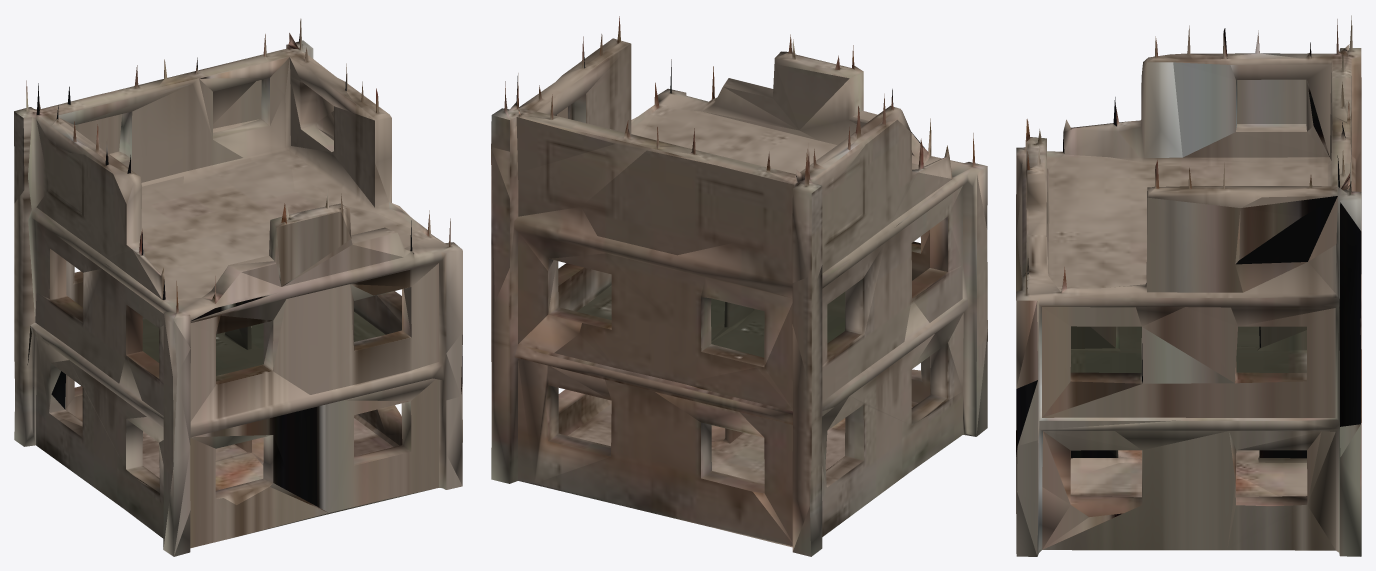
The model's file is prop_building_tall.glb.
The picture shows the model from 3 angles, left to right: view 1: azimuth 30°, elevation 25°; view 2: azimuth 150°, elevation 25°; view 3: azimuth 270°, elevation 25°; orthographic projection. The views are drawn at different scales.
Visible parts, largest first — view 1: Mesh_0; view 2: Mesh_0; view 3: Mesh_0.
Part boxes in pixels (x1,y1,x2,y2): Mesh_0: (14,18,462,556); Mesh_0: (491,16,987,556); Mesh_0: (1016,15,1361,556).
Size of the model in its own units: 1.65 by 1.99 by 1.58.
1 material, 1 textured.
